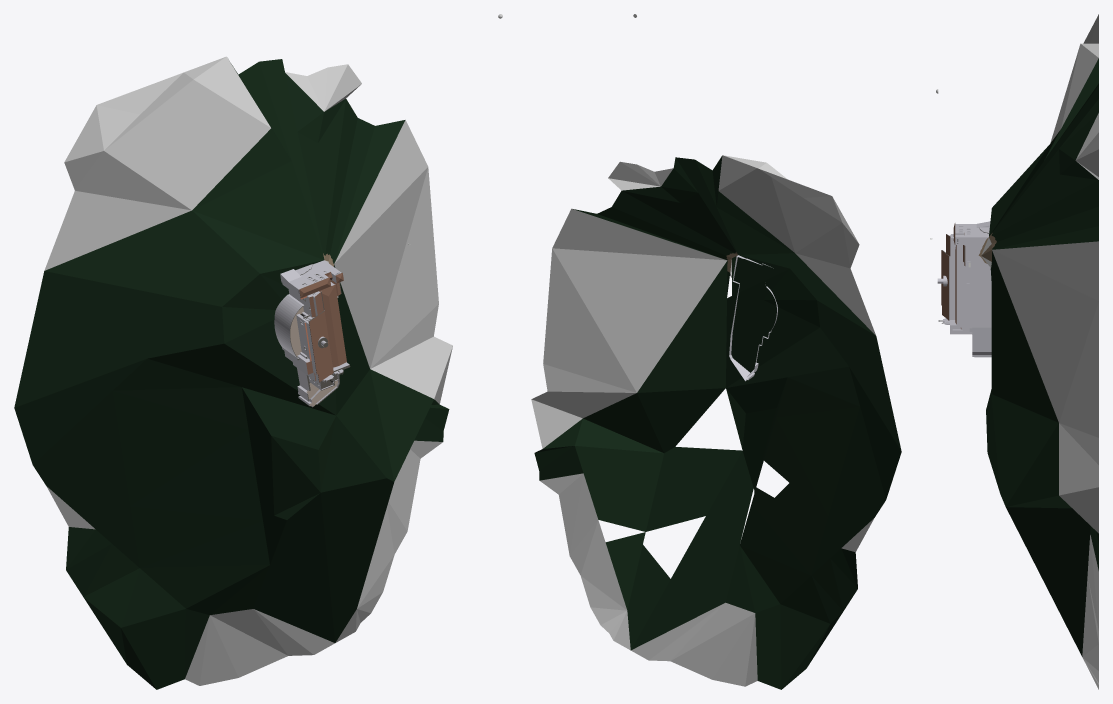
The model's file is convento.gltf.
3 renders of one model, left to right at view 1: azimuth 30°, elevation 25°; view 2: azimuth 150°, elevation 25°; view 3: azimuth 270°, elevation 25°, orthographic. The views are drawn at different scales.
Bounding box in the file's own units: 67.04 × 99.73 × 23.67.
